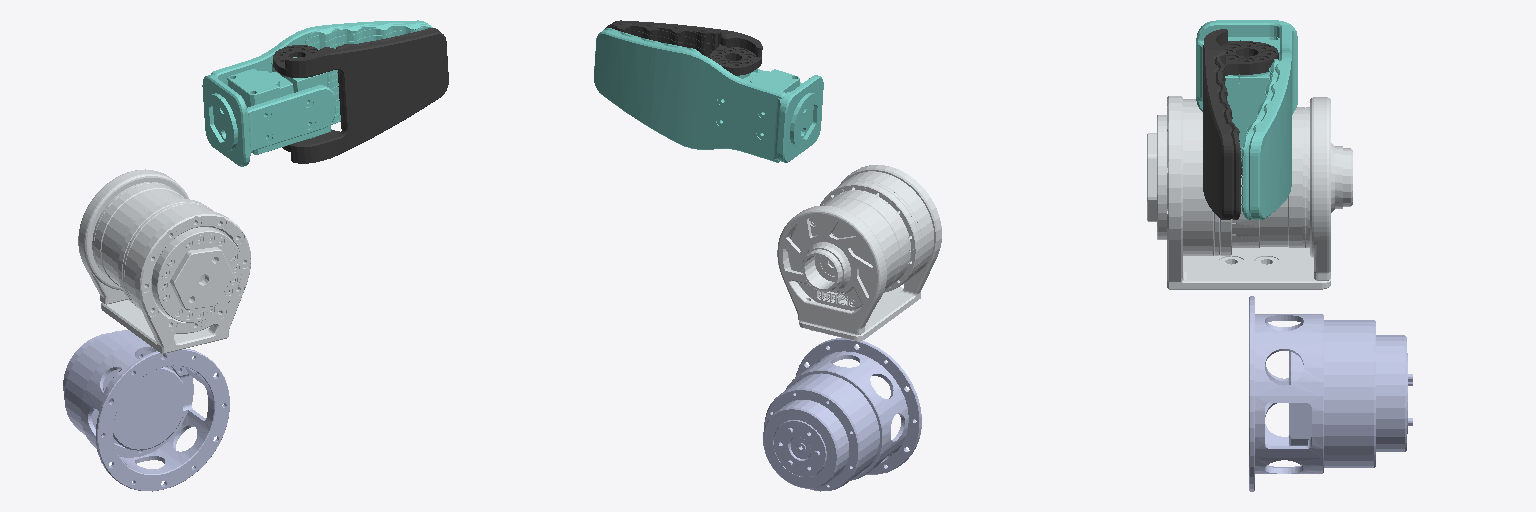
The robot description file, URDF, robot "Xiaotian_Arm_v3":
<?xml version="1.0" encoding="utf-8"?>
<!-- This URDF was automatically created by SolidWorks to URDF Exporter! Originally created by [author] ([email redacted]) 
     Commit Version: 1.6.0-1-g15f4949  Build Version: 1.6.7594.29634
     For more information, please see http://wiki.ros.org/sw_urdf_exporter -->
<robot
  name="Xiaotian_Arm_v3">
  <link
    name="base_link">
    <inertial>
      <origin
        xyz="0.00011891 2.1739E-05 0.037018"
        rpy="0 0 0" />
      <mass
        value="0.380" />
      <inertia
        ixx="3.254146E-05"
        ixy="-6.730E-08"
        ixz="-1.9753E-07"
        iyy="3.269992E-05"
        iyz="-1.681E-08"
        izz="2.282150E-05" />
    </inertial>
    <visual>
      <origin
        xyz="0 0 0"
        rpy="0 0 0" />
      <geometry>
        <mesh
          filename="./arm_meshes_v3/base_link.STL" />
      </geometry>
      <material
        name="">
        <color
          rgba="0.79216 0.81961 0.93333 1" />
      </material>
    </visual>
    <collision>
      <origin
        xyz="0 0 0"
        rpy="0 0 0" />
      <geometry>
        <mesh
          filename="./arm_meshes_v3/base_link.STL" />
      </geometry>
    </collision>
  </link>
  <link
    name="actuator1">
    <inertial>
      <origin
        xyz="9.172E-06 -0.0038593 0.042337"
        rpy="0 0 0" />
      <mass
        value="1.16414" />
      <inertia
        ixx="0.00065535259"
        ixy="2.379E-08"
        ixz="2.1654E-07"
        iyy="0.00044561266"
        iyz="-4.750137E-05"
        izz="0.00050672553" />
    </inertial>
    <visual>
      <origin
        xyz="0 0 0"
        rpy="0 0 0" />
      <geometry>
        <mesh
          filename="./arm_meshes_v3/actuator1.STL" />
      </geometry>
      <material
        name="">
        <color
          rgba="0.89804 0.91765 0.92941 1" />
      </material>
    </visual>
    <collision>
      <origin
        xyz="0 0 0"
        rpy="0 0 0" />
      <geometry>
        <mesh
          filename="./arm_meshes_v3/actuator1.STL" />
      </geometry>
    </collision>
  </link>
  <joint
    name="joint1"
    type="revolute">
    <origin
      xyz="0 0 0.06789"
      rpy="0 0 0" />
    <parent
      link="base_link" />
    <child
      link="actuator1" />
    <axis
      xyz="0 0 1" />
    <limit lower="-3.14" upper="3.14" effort="50" velocity="10" />
  </joint>
  <link
    name="actuator2">
    <inertial>
      <origin
        xyz="-0.15554 5.3314E-06 0.045289"
        rpy="0 0 0" />
      <mass
        value="0.76990" />
      <inertia
        ixx="0.00057444983"
        ixy="-2.73628E-06"
        ixz="-1.7491313E-04"
        iyy="0.01414249744"
        iyz="3.993E-08"
        izz="0.01380626081" />
    </inertial>
    <visual>
      <origin
        xyz="0 0 0"
        rpy="0 0 0" />
      <geometry>
        <mesh
          filename="./arm_meshes_v3/actuator2.STL" />
      </geometry>
      <material
        name="">
        <color
          rgba="0.53333 0.85098 0.82353 1" />
      </material>
    </visual>
    <collision>
      <origin
        xyz="0 0 0"
        rpy="0 0 0" />
      <geometry>
        <mesh
          filename="./arm_meshes_v3/actuator2.STL" />
      </geometry>
    </collision>
  </link>
  <joint
    name="joint2"
    type="revolute">
    <origin
      xyz="-0.010103 -0.048969 0.054"
      rpy="-1.5708 0 0" />
    <parent
      link="actuator1" />
    <child
      link="actuator2" />
    <axis
      xyz="-0.20207 0 -0.97937" />
    <limit lower="-3.14" upper="3.14" effort="50" velocity="10" />
  </joint>
  <link
    name="actuator3">
    <inertial>
      <origin
        xyz="0.096602 -0.058308 0.032914"
        rpy="0 0 0" />
      <mass
        value="0.72893" />
      <inertia
        ixx="0.00060064708"
        ixy="-7.7930502E-04"
        ixz="-4.366158E-05"
        iyy="0.00522035625"
        iyz="-2.223023E-05"
        izz="0.00530796732" />
    </inertial>
    <visual>
      <origin
        xyz="0 0 0"
        rpy="0 0 0" />
      <geometry>
        <mesh
          filename="./arm_meshes_v3/actuator3.STL" />
      </geometry>
      <material
        name="">
        <color
          rgba="0.89804 0.91765 0.92941 1" />
      </material>
    </visual>
    <collision>
      <origin
        xyz="0 0 0"
        rpy="0 0 0" />
      <geometry>
        <mesh
          filename="./arm_meshes_v3/actuator3.STL" />
      </geometry>
    </collision>
  </link>
  <joint
    name="joint3"
    type="revolute">
    <origin
      xyz="-0.3239 0 0.012478"
      rpy="0 0 0" />
    <parent
      link="actuator2" />
    <child
      link="actuator3" />
    <axis
      xyz="0 0 1" />
    <limit lower="-3.14" upper="3.14" effort="50" velocity="10" />
  </joint>
  <link
    name="actuator4">
    <inertial>
      <origin
        xyz="0.042348 -0.00057806 0.032474"
        rpy="0 0 0" />
      <mass
        value="0.51931" />
      <inertia
        ixx="0.00025573434"
        ixy="-1.710739E-05"
        ixz="4.385173E-05"
        iyy="0.00041298999"
        iyz="-2.93222E-06"
        izz="0.00035813309" />
    </inertial>
    <visual>
      <origin
        xyz="0 0 0"
        rpy="0 0 0" />
      <geometry>
        <mesh
          filename="./arm_meshes_v3/actuator4.STL" />
      </geometry>
      <material
        name="">
        <color
          rgba="0.79216 0.81961 0.93333 1" />
      </material>
    </visual>
    <collision>
      <origin
        xyz="0 0 0"
        rpy="0 0 0" />
      <geometry>
        <mesh
          filename="./arm_meshes_v3/actuator4.STL" />
      </geometry>
    </collision>
  </link>
  <joint
    name="joint4"
    type="revolute">
    <origin
      xyz="0.20571 -0.072177 -0.00099033"
      rpy="0 0 -0.067094" />
    <parent
      link="actuator3" />
    <child
      link="actuator4" />
    <axis
      xyz="0 0 1" />
    <limit lower="-3.14" upper="3.14" effort="50" velocity="10" />
  </joint>
  <link
    name="actuator5">
    <inertial>
      <origin
        xyz="0.052455 7.6209E-06 -0.03329"
        rpy="0 0 0" />
      <mass
        value="0.5168" />
      <inertia
        ixx="0.00022750534"
        ixy="1.430E-08"
        ixz="-5.152283E-05"
        iyy="0.00049991491"
        iyz="1.0502E-07"
        izz="0.00037987223" />
    </inertial>
    <visual>
      <origin
        xyz="0 0 0"
        rpy="0 0 0" />
      <geometry>
        <mesh
          filename="./arm_meshes_v3/actuator5.STL" />
      </geometry>
      <material
        name="">
        <color
          rgba="0.79216 0.81961 0.93333 1" />
      </material>
    </visual>
    <collision>
      <origin
        xyz="0 0 0"
        rpy="0 0 0" />
      <geometry>
        <mesh
          filename="./arm_meshes_v3/actuator5.STL" />
      </geometry>
    </collision>
  </link>
  <joint
    name="joint5"
    type="revolute">
    <origin
      xyz="0.0665 -0.036429 0.0365"
      rpy="1.5708 0 0" />
    <parent
      link="actuator4" />
    <child
      link="actuator5" />
    <axis
      xyz="-0.0038871 0 -0.99999" />
    <limit lower="-3.14" upper="3.14" effort="50" velocity="10" />
  </joint>
  <link
    name="actuator6">
    <inertial>
      <origin
        xyz="0.0048827 -0.00030958 0.061809"
        rpy="0 0 0" />
      <mass
        value="0.26669" />
      <inertia
        ixx="0.00038724413"
        ixy="-3.8362E-07"
        ixz="9.2791E-07"
        iyy="0.00040204568"
        iyz="-3.262202E-05"
        izz="9.238543E-05" />
    </inertial>
    <visual>
      <origin
        xyz="0 0 0"
        rpy="0 0 0" />
      <geometry>
        <mesh
          filename="./arm_meshes_v3/actuator6.STL" />
      </geometry>
      <material
        name="">
        <color
          rgba="0.53333 0.85098 0.82353 1" />
      </material>
    </visual>
    <collision>
      <origin
        xyz="0 0 0"
        rpy="0 0 0" />
      <geometry>
        <mesh
          filename="./arm_meshes_v3/actuator6.STL" />
      </geometry>
    </collision>
  </link>
  <joint
    name="joint6"
    type="revolute">
    <origin
      xyz="0.10299 0 -0.0375"
      rpy="1.5708 0 1.5708" />
    <parent
      link="actuator5" />
    <child
      link="actuator6" />
    <axis
      xyz="0 0.0038871 -0.99999" />
    <limit lower="-3.14" upper="3.14" effort="50" velocity="10" />
  </joint>
  <link
    name="gripper">
    <inertial>
      <origin
        xyz="0.047354 -0.013359 -0.020482"
        rpy="0 0 0" />
      <mass
        value="0.062634" />
      <inertia
        ixx="2.9943E-05"
        ixy="1.5283E-06"
        ixz="-2.5659E-06"
        iyy="8.8252E-05"
        iyz="2.7045E-07"
        izz="6.3717E-05" />
    </inertial>
    <visual>
      <origin
        xyz="0 0 0"
        rpy="0 0 0" />
      <geometry>
        <mesh
          filename="./arm_meshes_v3/gripper.STL" />
      </geometry>
      <material
        name="">
        <color
          rgba="0.29804 0.29804 0.29804 1" />
      </material>
    </visual>
    <collision>
      <origin
        xyz="0 0 0"
        rpy="0 0 0" />
      <geometry>
        <mesh
          filename="./arm_meshes_v3/gripper.STL" />
      </geometry>
    </collision>
  </link>
  <joint
    name="Gripper_link"
    type="revolute">
    <origin
      xyz="0 0.0235 0.061"
      rpy="0 -1.5037 -1.5708" />
    <parent
      link="actuator6" />
    <child
      link="gripper" />
    <axis
      xyz="0.067044 0 -0.99775" />
    <limit lower="-3.14" upper="3.14" effort="50" velocity="10" />
  </joint>
</robot>

--- Render facts (derived) ---
3 views of the same robot in one strip: view 1: azimuth 30°, elevation 25°; view 2: azimuth 150°, elevation 25°; view 3: azimuth 270°, elevation 25° (orthographic).
Model Xiaotian_Arm_v3 with 8 links and 7 joints (7 revolute), rooted at base_link, posed all joints at 0.
Visible links, largest first — view 1: actuator1, base_link, actuator6, gripper; view 2: actuator1, actuator6, base_link, gripper; view 3: actuator1, base_link, actuator6, gripper.
Link boxes in pixels (left/top/right/bottom): actuator1: left=78, top=169, right=250, bottom=353; base_link: left=63, top=330, right=229, bottom=491; actuator6: left=202, top=20, right=432, bottom=166; gripper: left=273, top=28, right=448, bottom=163; actuator1: left=777, top=165, right=941, bottom=341; actuator6: left=594, top=28, right=823, bottom=162; base_link: left=763, top=338, right=921, bottom=491; gripper: left=605, top=20, right=762, bottom=75; actuator1: left=1147, top=96, right=1352, bottom=289; base_link: left=1249, top=296, right=1412, bottom=491; actuator6: left=1196, top=20, right=1297, bottom=219; gripper: left=1203, top=29, right=1278, bottom=219.
Bounding box of the posed robot: 0.2572 × 0.1355 × 0.2968 m (x, y, z).
Meshes: 8 distinct files referenced, 4 mesh visuals loaded (4 binary STL); not drawn: 4 (reference not matched to a file when rendering).
